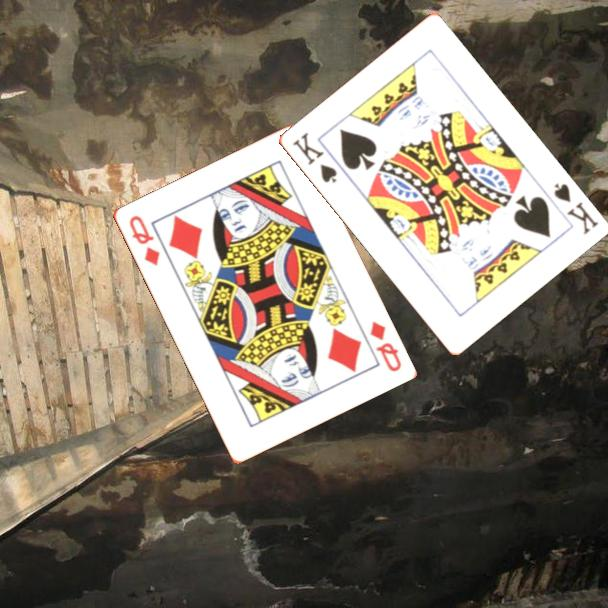d12: (366, 317, 404, 375), (125, 211, 162, 269)
s13: (289, 129, 340, 186), (550, 180, 601, 237)
